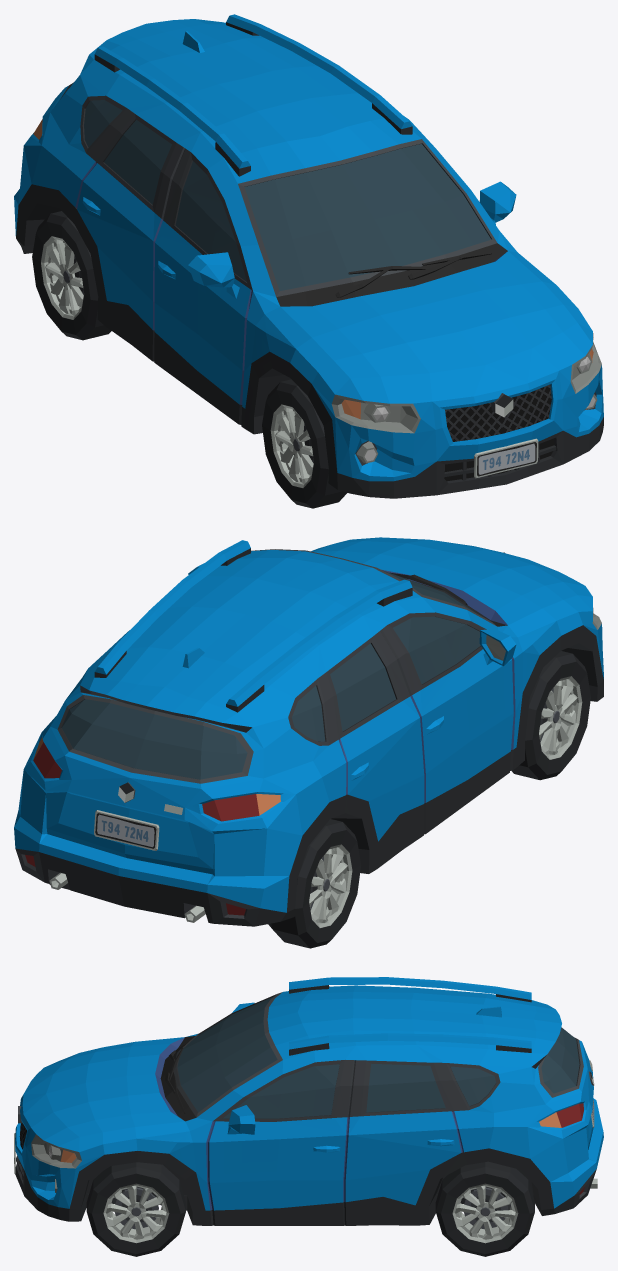
The model's file is citycar.glb.
The picture shows the model from 3 angles, top to bottom: view 1: azimuth 30°, elevation 25°; view 2: azimuth 150°, elevation 25°; view 3: azimuth 270°, elevation 25°; orthographic projection. The views are drawn at different scales.
Parts seen in each view (by area): view 1: SM_Veh_Car_Medium_01, SM_Veh_Car_Medium_Glass, SM_Veh_Car_Medium_Wheel_fr, SM_Veh_Car_Medium_Wheel_rr, SM_Veh_Car_Medium_Plates; view 2: SM_Veh_Car_Medium_01, SM_Veh_Car_Medium_Glass, SM_Veh_Car_Medium_Wheel_rr, SM_Veh_Car_Medium_Wheel_fr, SM_Veh_Car_Medium_Plates; view 3: SM_Veh_Car_Medium_01, SM_Veh_Car_Medium_Glass, SM_Veh_Car_Medium_Wheel_fl, SM_Veh_Car_Medium_Wheel_rl.
Part boxes in pixels (bbox=[...]): SM_Veh_Car_Medium_01: bbox=[14, 14, 603, 498]; SM_Veh_Car_Medium_Glass: bbox=[68, 82, 491, 290]; SM_Veh_Car_Medium_Wheel_fr: bbox=[262, 379, 346, 508]; SM_Veh_Car_Medium_Wheel_rr: bbox=[32, 211, 111, 340]; SM_Veh_Car_Medium_Plates: bbox=[474, 438, 538, 478]; SM_Veh_Car_Medium_01: bbox=[14, 537, 603, 926]; SM_Veh_Car_Medium_Glass: bbox=[62, 570, 480, 779]; SM_Veh_Car_Medium_Wheel_rr: bbox=[268, 819, 361, 948]; SM_Veh_Car_Medium_Wheel_fr: bbox=[511, 651, 590, 780]; SM_Veh_Car_Medium_Plates: bbox=[94, 810, 159, 850]; SM_Veh_Car_Medium_01: bbox=[15, 977, 603, 1225]; SM_Veh_Car_Medium_Glass: bbox=[177, 997, 579, 1118]; SM_Veh_Car_Medium_Wheel_fl: bbox=[86, 1162, 185, 1256]; SM_Veh_Car_Medium_Wheel_rl: bbox=[435, 1161, 534, 1256].
Bounding box in the file's own units: 1.95 × 1.55 × 4.1.
Materials: 3 (1 with a texture image).
